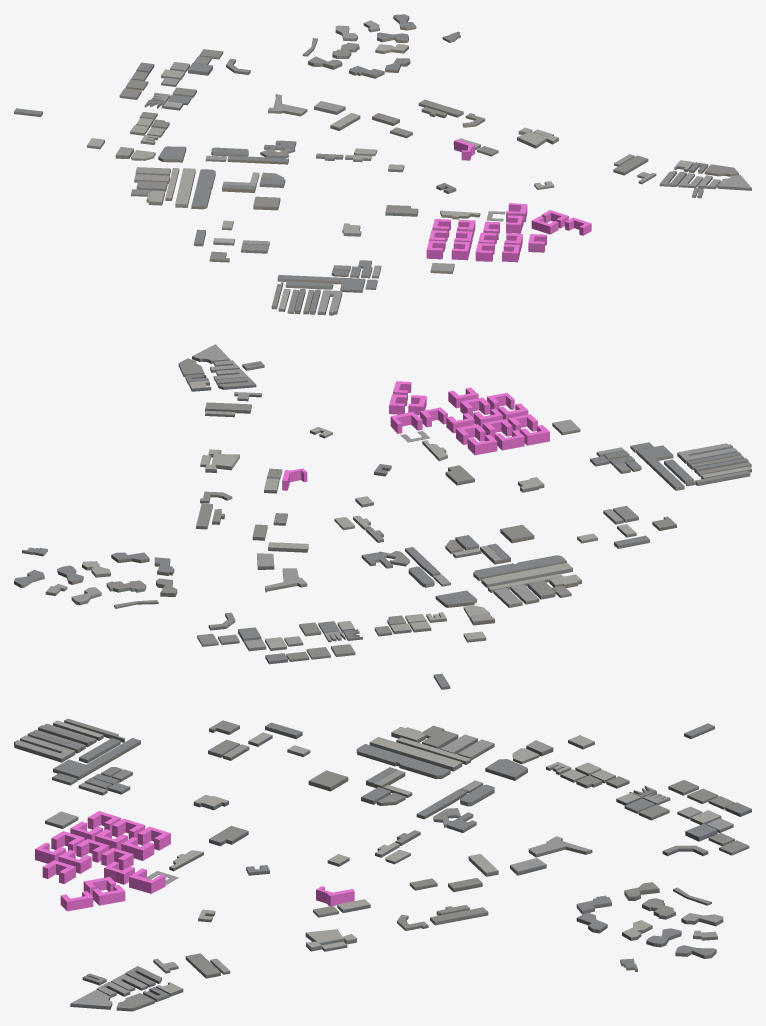
The model's file is bld_11_6.fbx.
The picture shows the model from 3 angles, top to bottom: view 1: azimuth 30°, elevation 25°; view 2: azimuth 150°, elevation 25°; view 3: azimuth 270°, elevation 25°; orthographic projection. The views are drawn at different scales.
Parts seen in each view (by area): view 1: bld_11_6_LOD0, bld_11_6_COL; view 2: bld_11_6_LOD0, bld_11_6_COL; view 3: bld_11_6_LOD0, bld_11_6_COL.
Part boxes in pixels (left/top/right/bottom): bld_11_6_LOD0: left=14, top=14, right=751, bottom=315; bld_11_6_COL: left=426, top=139, right=591, bottom=262; bld_11_6_LOD0: left=14, top=344, right=751, bottom=689; bld_11_6_COL: left=282, top=381, right=549, bottom=490; bld_11_6_LOD0: left=14, top=718, right=751, bottom=1011; bld_11_6_COL: left=35, top=811, right=354, bottom=911.
Size of what is drawn, in the model's own units: 1960 by 33.94 by 2115.
